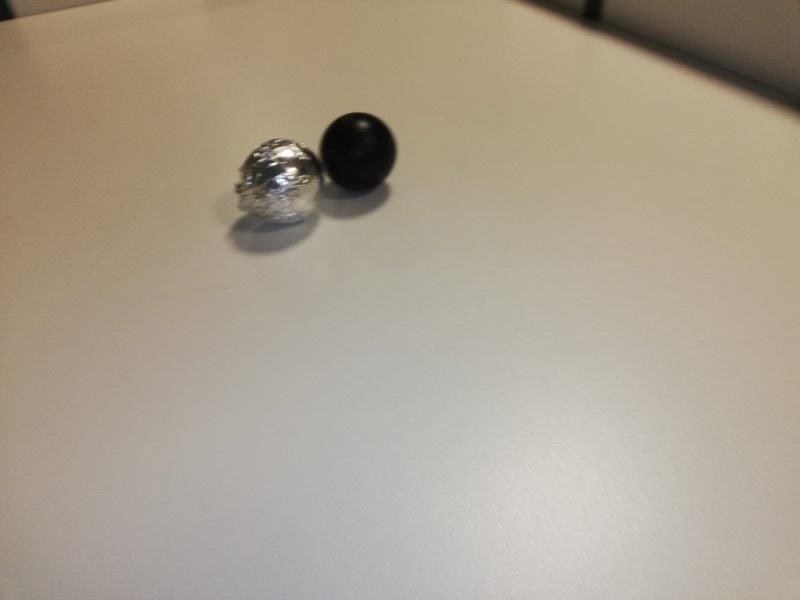bianca: (239, 138, 321, 222)
nera: (319, 107, 396, 190)
